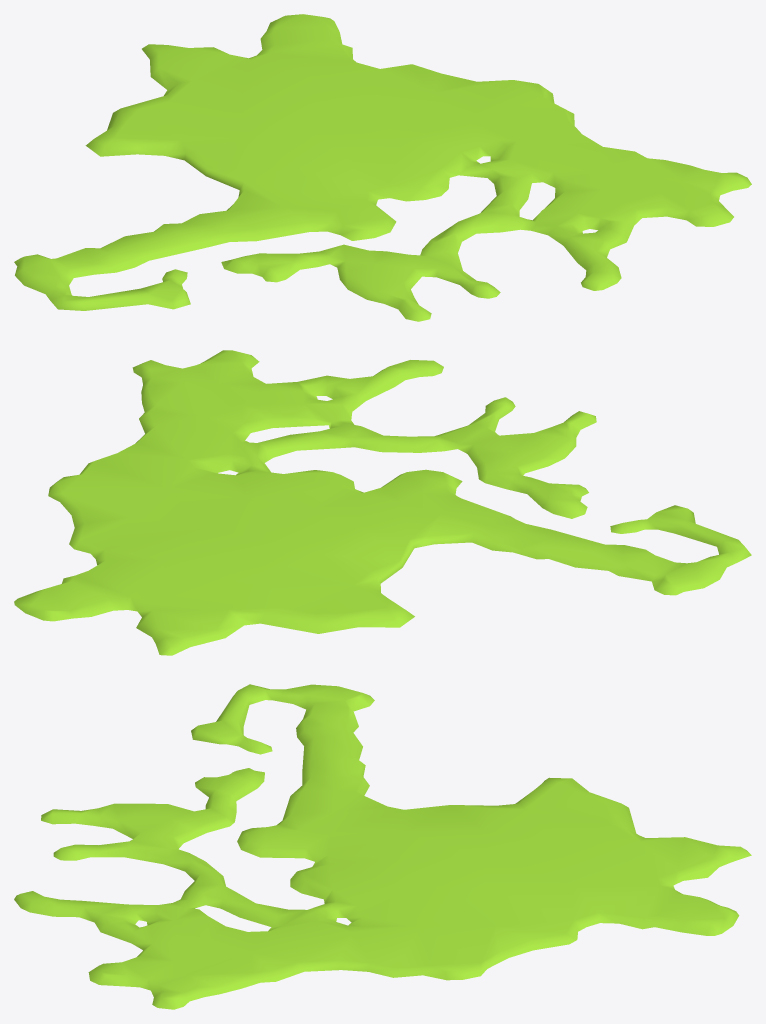
The model's file is env_garbage_slimefloor02.fbx.
The picture shows the model from 3 angles, top to bottom: view 1: azimuth 30°, elevation 25°; view 2: azimuth 150°, elevation 25°; view 3: azimuth 270°, elevation 25°; orthographic projection.
Parts seen in each view (by area): view 1: SlimeFloor02; view 2: SlimeFloor02; view 3: SlimeFloor02.
Part boxes in pixels (x1,y1,x2,y2): SlimeFloor02: (14, 14, 751, 321); SlimeFloor02: (14, 350, 751, 655); SlimeFloor02: (14, 684, 751, 1009).
Size of the model in its own units: 68.64 by 1.05 by 66.42.
